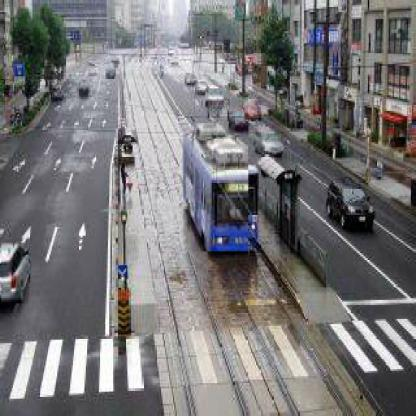bus: (181, 122, 251, 254)
car: (326, 178, 381, 235), (2, 240, 31, 306), (255, 128, 286, 157), (206, 90, 226, 111), (230, 114, 245, 136), (245, 100, 260, 122), (78, 81, 91, 103), (106, 63, 117, 81), (88, 65, 97, 79), (197, 82, 208, 93), (186, 74, 196, 86), (161, 67, 165, 77)
